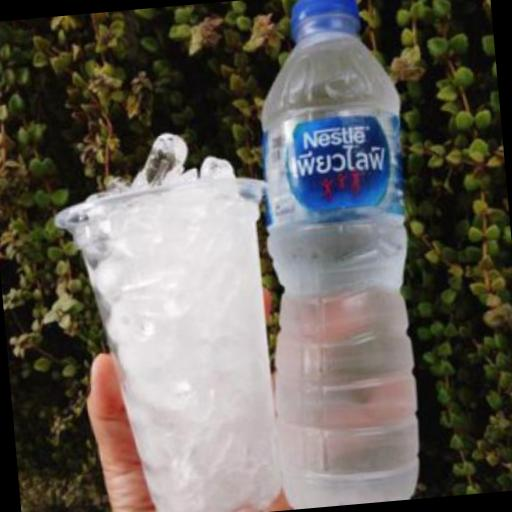Coca: (217, 0, 444, 510)
